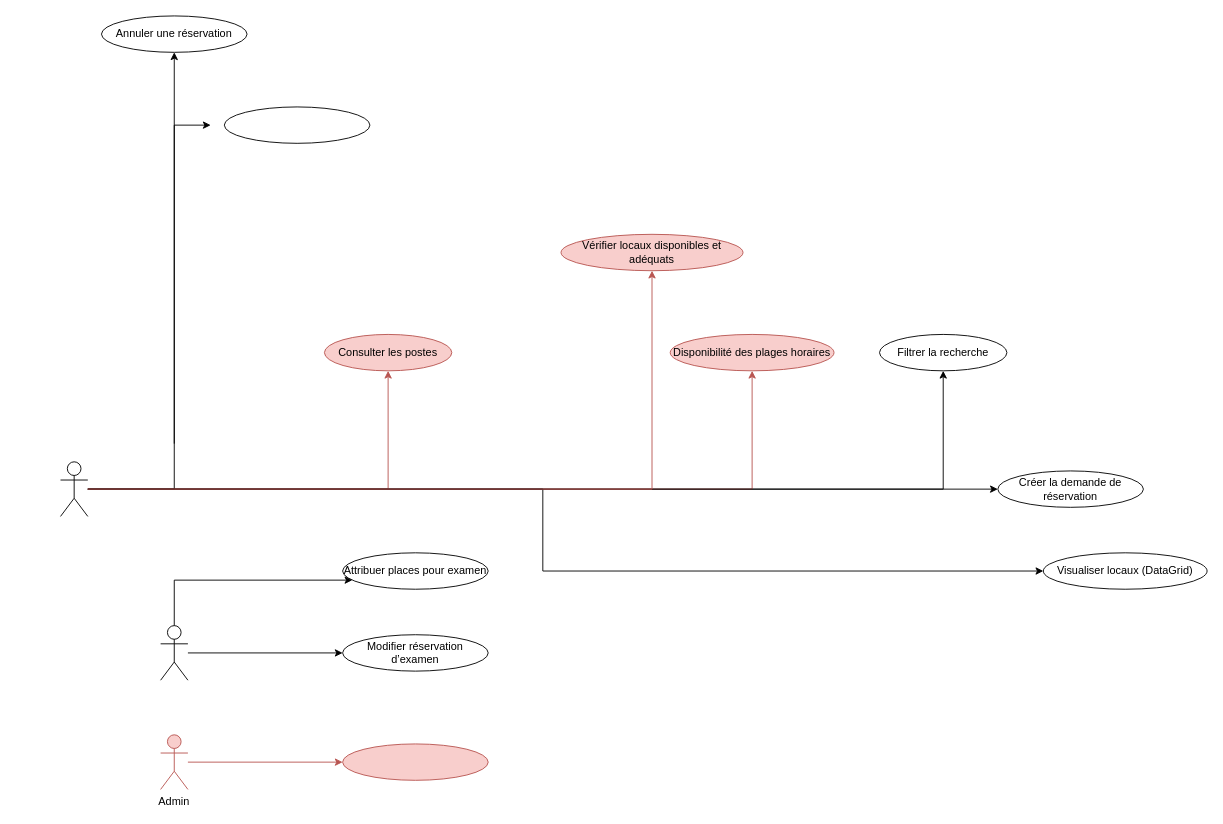
Image size: 1223x824. Some labels were removed from this diagram. The shapes that lost their labels are listed below. From the top down, each one's centre as x and y in pixels, then its label:
At pixel 296 124: "Modifier une réservation".
At pixel 74 488: "Tout le monde au cégep".
At pixel 174 652: "Professeur de Technique".
At pixel 415 761: "Statistique d’annulations".
